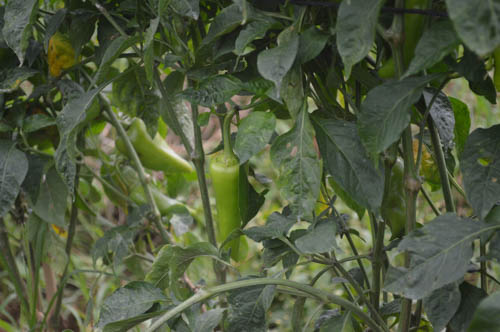ChiliPepper: (116, 118, 196, 181), (210, 153, 242, 261)
